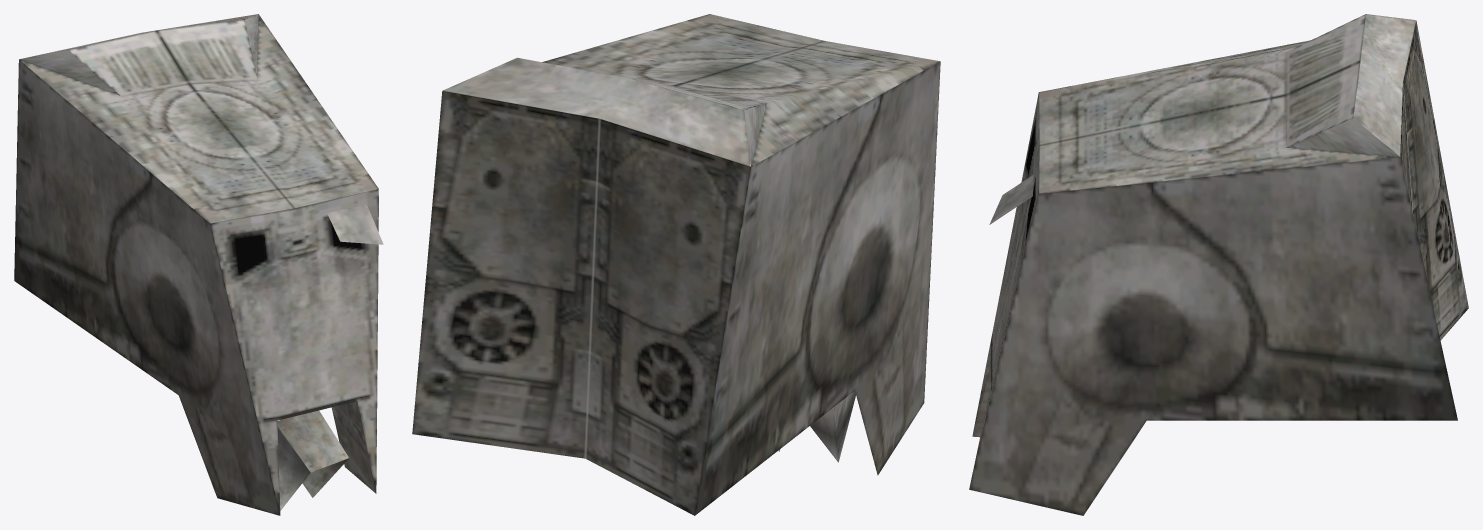
File: poi_all_atst_destroyed_l3.fbx
3 renders of one model, left to right at view 1: azimuth 30°, elevation 25°; view 2: azimuth 150°, elevation 25°; view 3: azimuth 270°, elevation 25°, orthographic. The views are drawn at different scales.
Parts seen in each view (by area): view 1: mesh_node; view 2: mesh_node; view 3: mesh_node.
Boxes of the visible parts, x1=… form: mesh_node: x1=14, y1=14, x2=383, y2=515; mesh_node: x1=412, y1=14, x2=940, y2=515; mesh_node: x1=969, y1=14, x2=1468, y2=515.
Bounding box in the file's own units: 2.02 × 3.14 × 3.29.
Materials: 1 (1 with a texture image).
